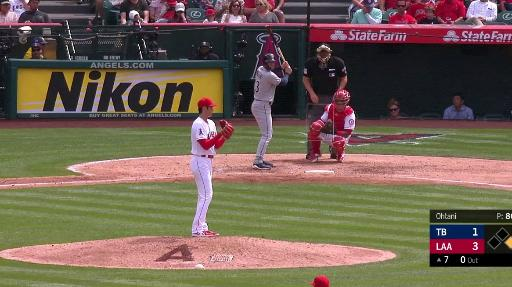pitcher: (192, 97, 236, 238)
